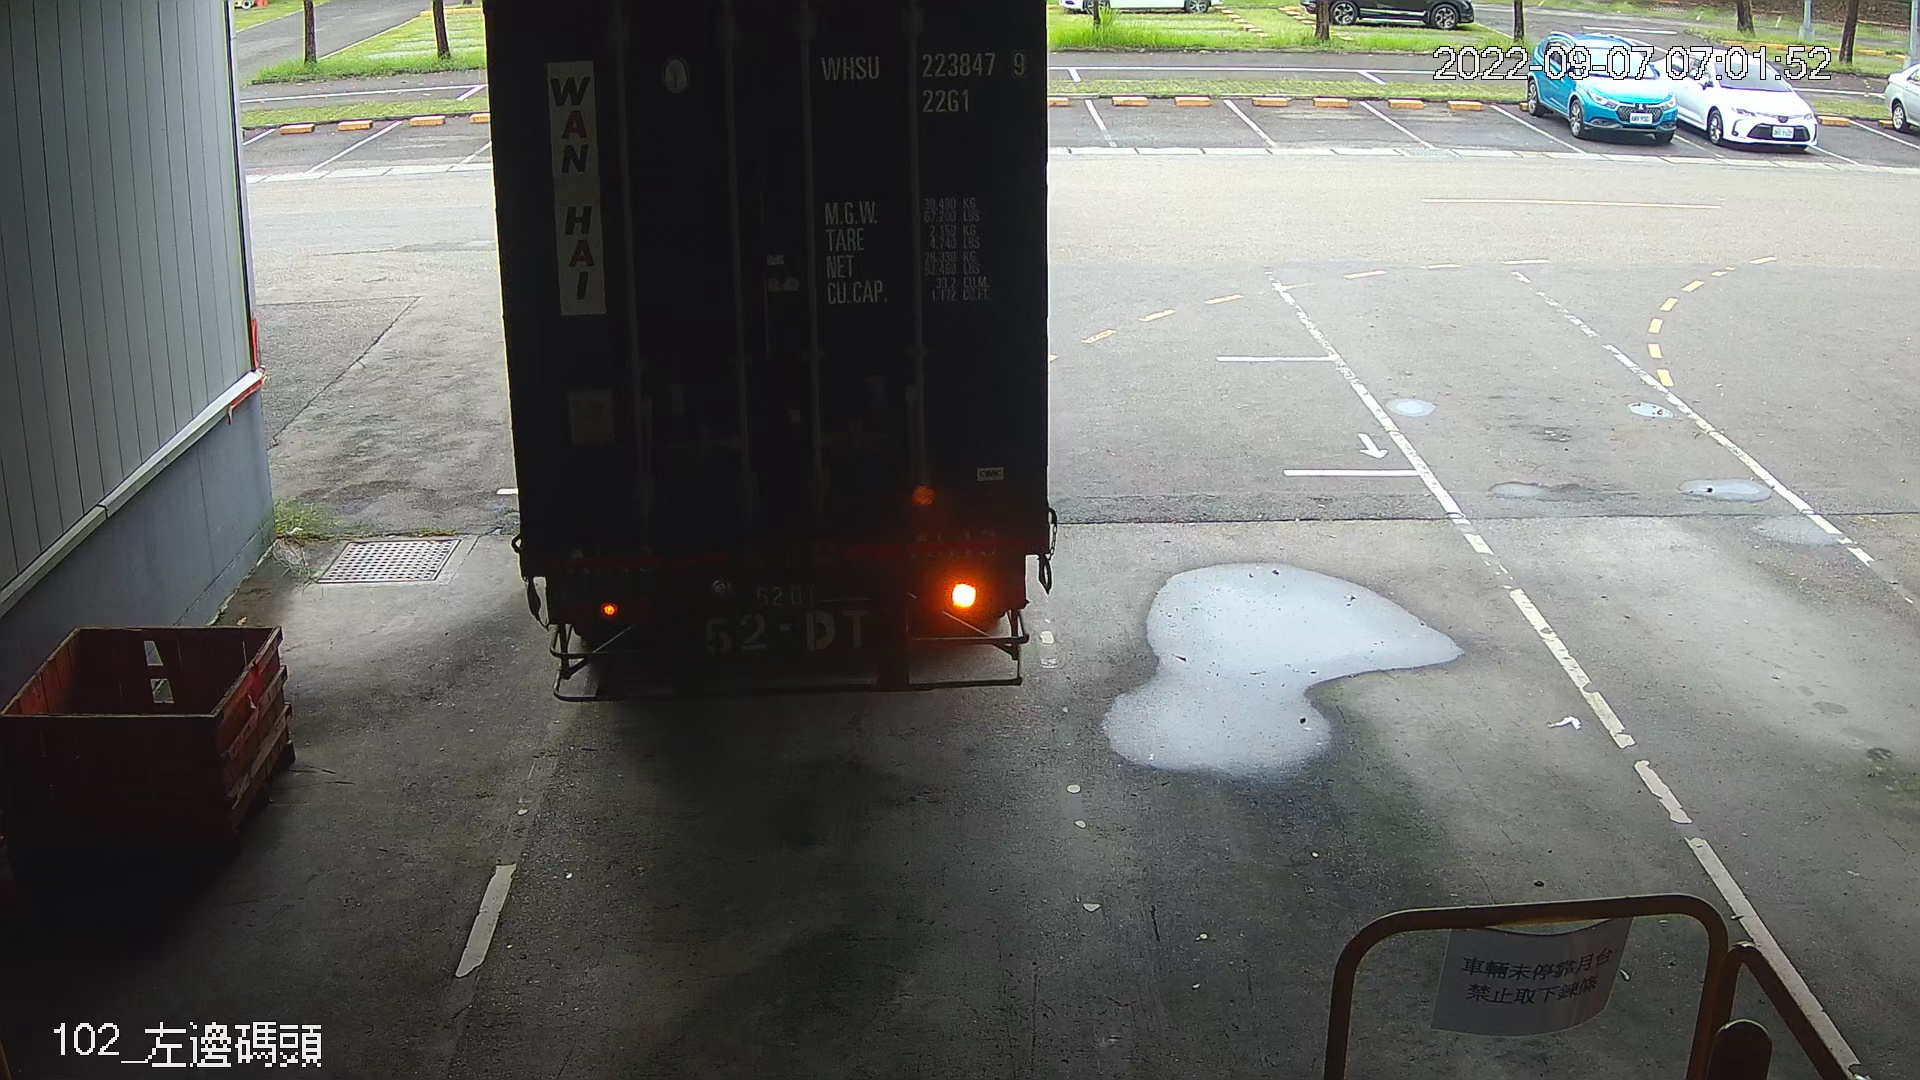container: (812, 40, 1036, 124)
